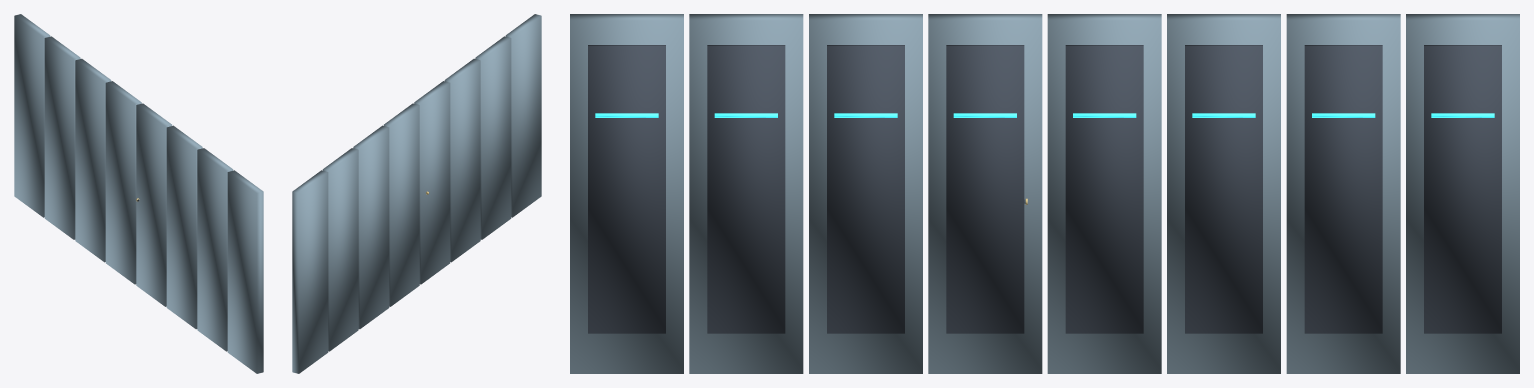
The model's file is 02_L93_TitaniumWallModuleLeft.glb.
The picture shows the model from 3 angles, left to right: view 1: azimuth 30°, elevation 25°; view 2: azimuth 150°, elevation 25°; view 3: azimuth 270°, elevation 25°; orthographic projection. The views are drawn at different scales.
Visible parts, largest first — view 1: L92_TitaniumWallModuleLeft_Part_0000; view 2: L92_TitaniumWallModuleLeft_Part_0000; view 3: L92_TitaniumWallModuleLeft_Part_0001, L92_TitaniumWallModuleLeft_Part_0000, L92_TitaniumWallModuleLeft_Part_0002.
Boxes of the visible parts, left/top/right/bottom form: L92_TitaniumWallModuleLeft_Part_0000: left=14, top=14, right=263, bottom=373; L92_TitaniumWallModuleLeft_Part_0000: left=292, top=14, right=541, bottom=373; L92_TitaniumWallModuleLeft_Part_0001: left=588, top=45, right=1501, bottom=333; L92_TitaniumWallModuleLeft_Part_0000: left=570, top=14, right=1519, bottom=373; L92_TitaniumWallModuleLeft_Part_0002: left=595, top=113, right=1494, bottom=117.
Size of the model in its own units: 0.67 by 8 by 19.49.
